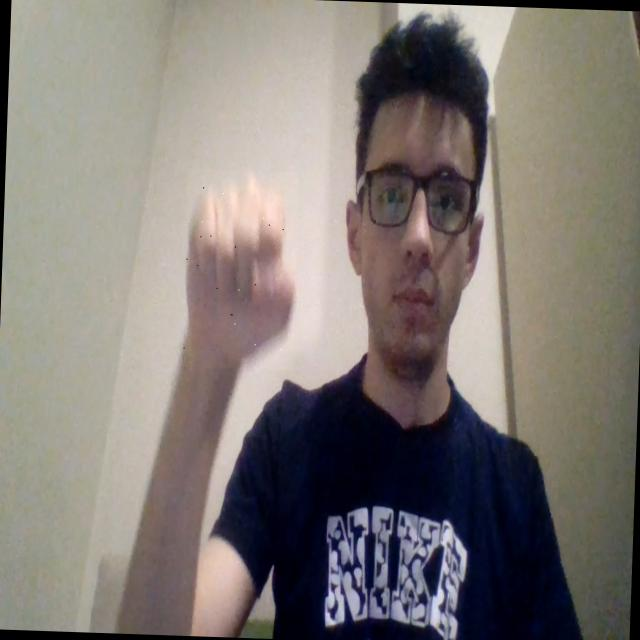yes: (180, 168, 299, 370)
